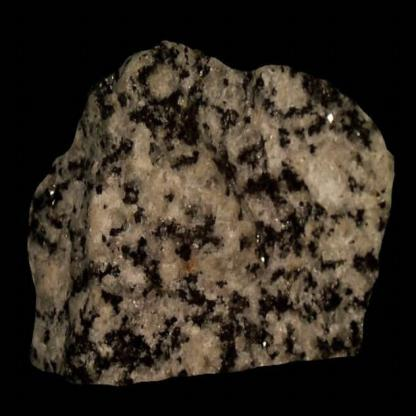Igneous_Diorite: (23, 29, 399, 381)
